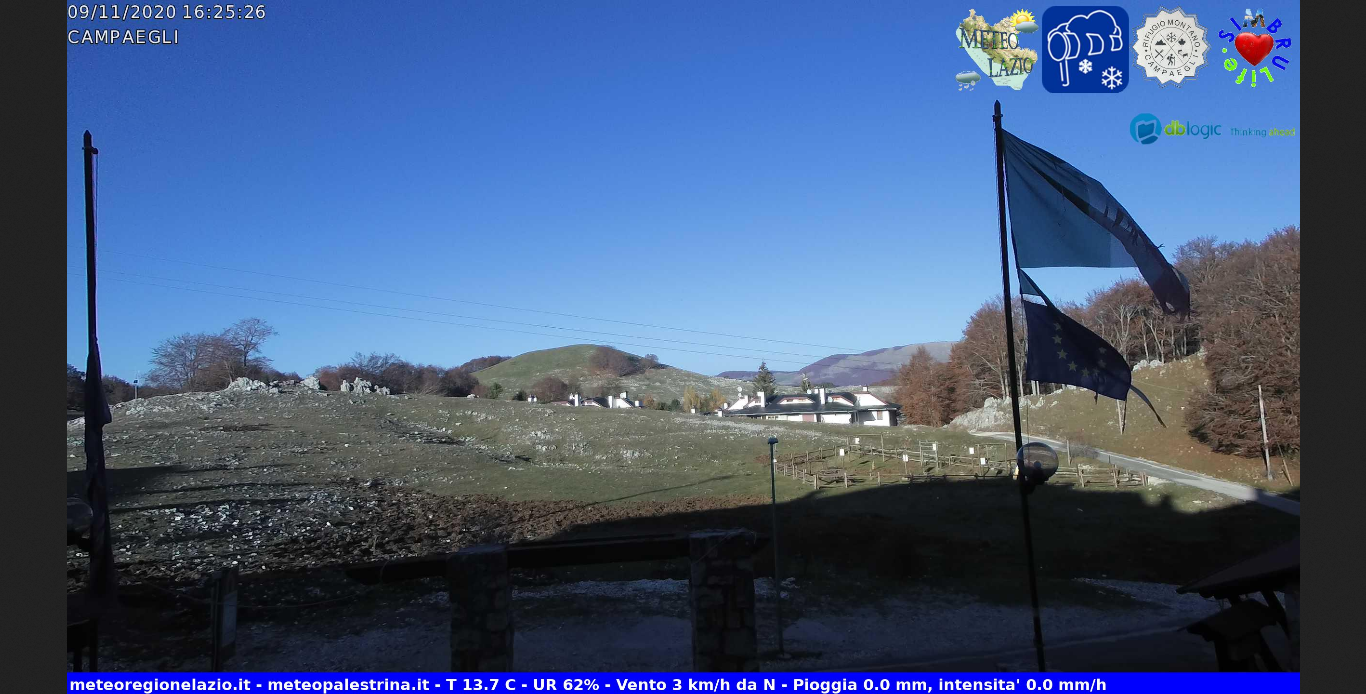maybe: (981, 84, 1213, 332), (1010, 287, 1154, 414)
